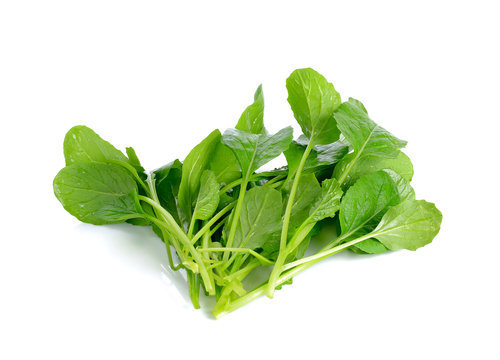Bayam: (53, 61, 473, 336)
